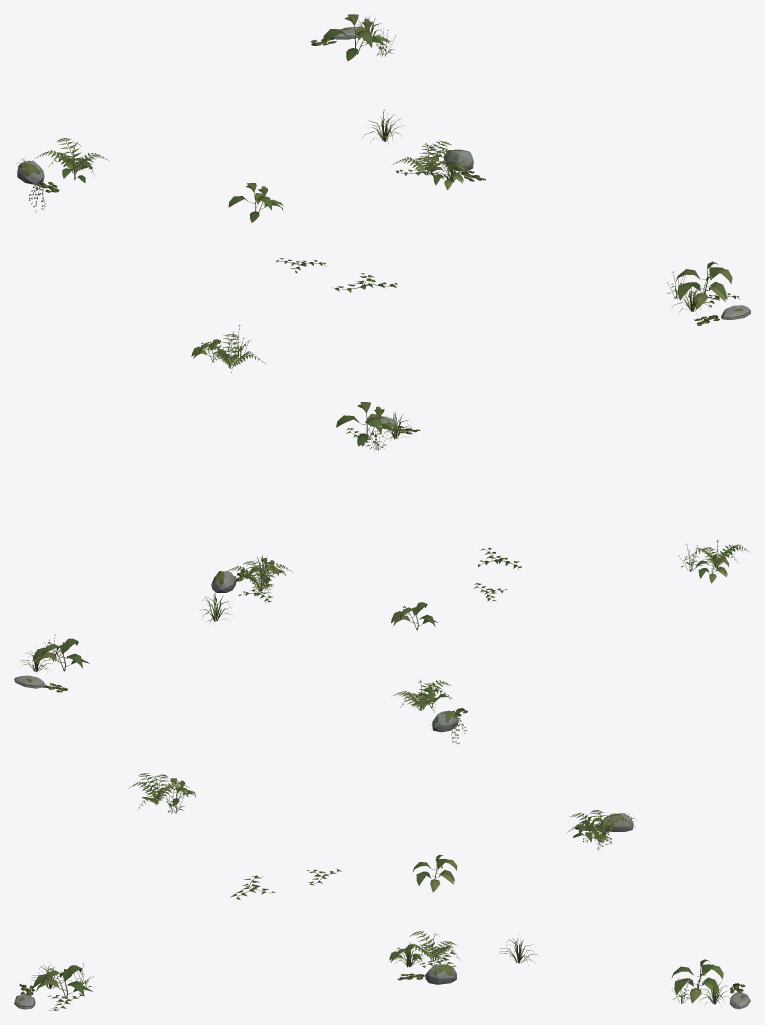
File: dressing_stage5.glb
3 views of the same model, one above another, from view 1: azimuth 30°, elevation 25°; view 2: azimuth 150°, elevation 25°; view 3: azimuth 270°, elevation 25° (orthographic). The views are drawn at different scales.
Visible parts, largest first — view 1: stage1_dressing_foliage, stage1_dressing_rocks; view 2: stage1_dressing_foliage, stage1_dressing_rocks; view 3: stage1_dressing_foliage, stage1_dressing_rocks.
Boxes of the visible parts, <box> form: stage1_dressing_foliage: <box>16,14,740,373</box>; stage1_dressing_rocks: <box>17,26,750,319</box>; stage1_dressing_foliage: <box>20,402,750,743</box>; stage1_dressing_rocks: <box>14,416,458,732</box>; stage1_dressing_foliage: <box>19,773,744,1010</box>; stage1_dressing_rocks: <box>14,813,750,1009</box>.
Bounding box in the file's own units: 5.85 × 0.7312 × 8.26.
